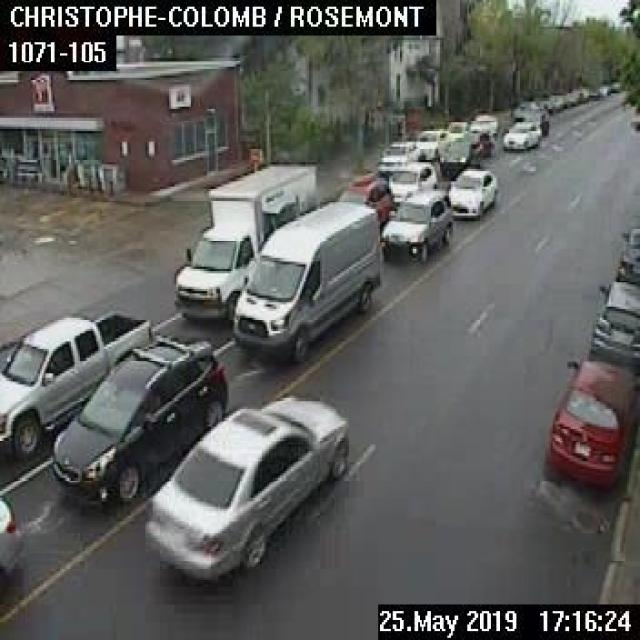vehicle: (145, 396, 346, 573), (51, 332, 226, 503), (232, 199, 380, 354), (173, 163, 316, 321), (0, 311, 151, 456), (543, 353, 638, 485), (379, 189, 452, 261), (591, 280, 638, 358), (338, 171, 394, 227), (448, 168, 495, 214), (388, 160, 434, 200), (0, 491, 16, 586), (438, 136, 476, 174), (377, 140, 418, 172), (617, 225, 638, 280), (502, 120, 540, 148), (417, 129, 448, 158), (524, 110, 547, 136), (469, 114, 496, 136), (473, 129, 493, 157), (512, 101, 538, 121), (447, 120, 467, 140), (550, 93, 565, 111), (538, 99, 550, 112), (609, 81, 619, 93), (599, 84, 609, 94), (0, 360, 4, 369)
